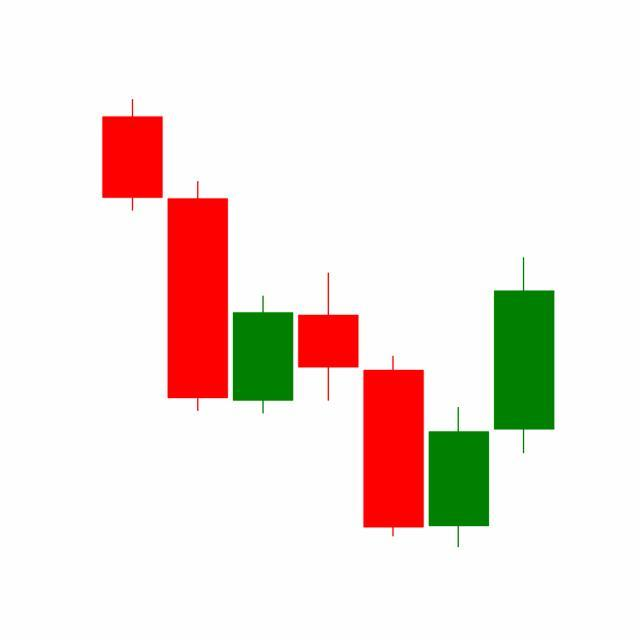Three Inside Up-Down: (360, 253, 556, 549)
